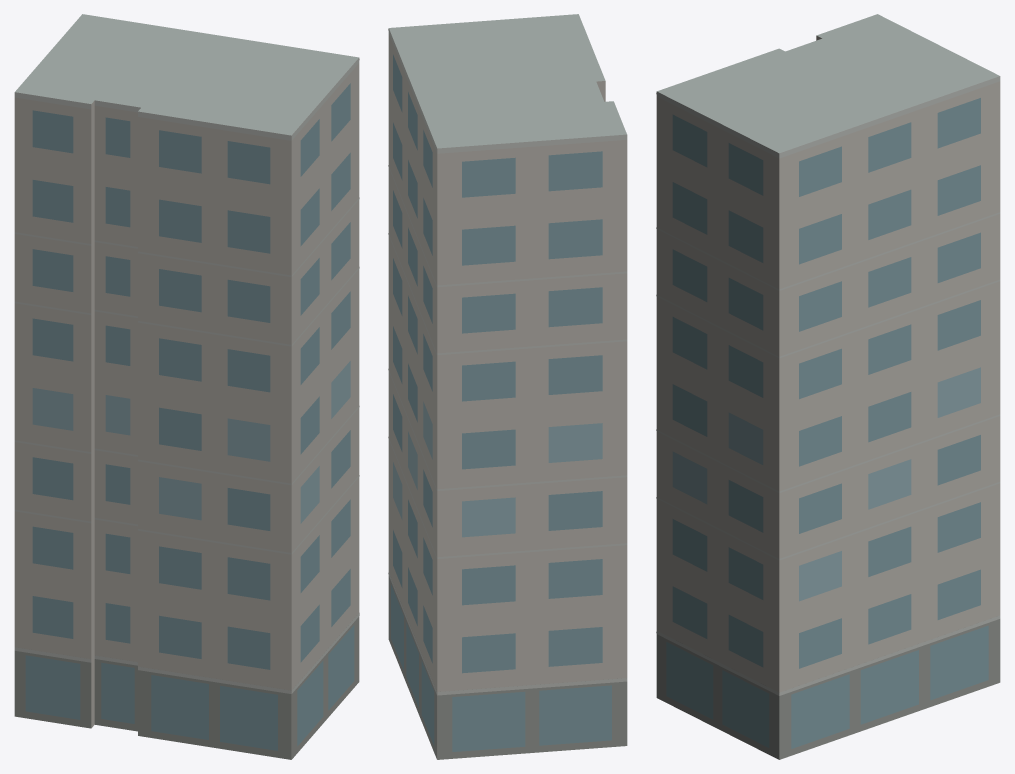
Rendered from survey-upis-32666013.glb.
3 renders of one model, left to right at view 1: azimuth 30°, elevation 25°; view 2: azimuth 150°, elevation 25°; view 3: azimuth 270°, elevation 25°, orthographic. The views are drawn at different scales.
Visible parts, largest first — view 1: survey-upis-32666013.tmp; view 2: survey-upis-32666013.tmp; view 3: survey-upis-32666013.tmp.
Part boxes in pixels (x1,y1,x2,y2): survey-upis-32666013.tmp: [14, 14, 359, 759]; survey-upis-32666013.tmp: [388, 14, 627, 759]; survey-upis-32666013.tmp: [656, 14, 1000, 759].
Bounding box in the file's own units: 14.07 × 28.5 × 14.65.
